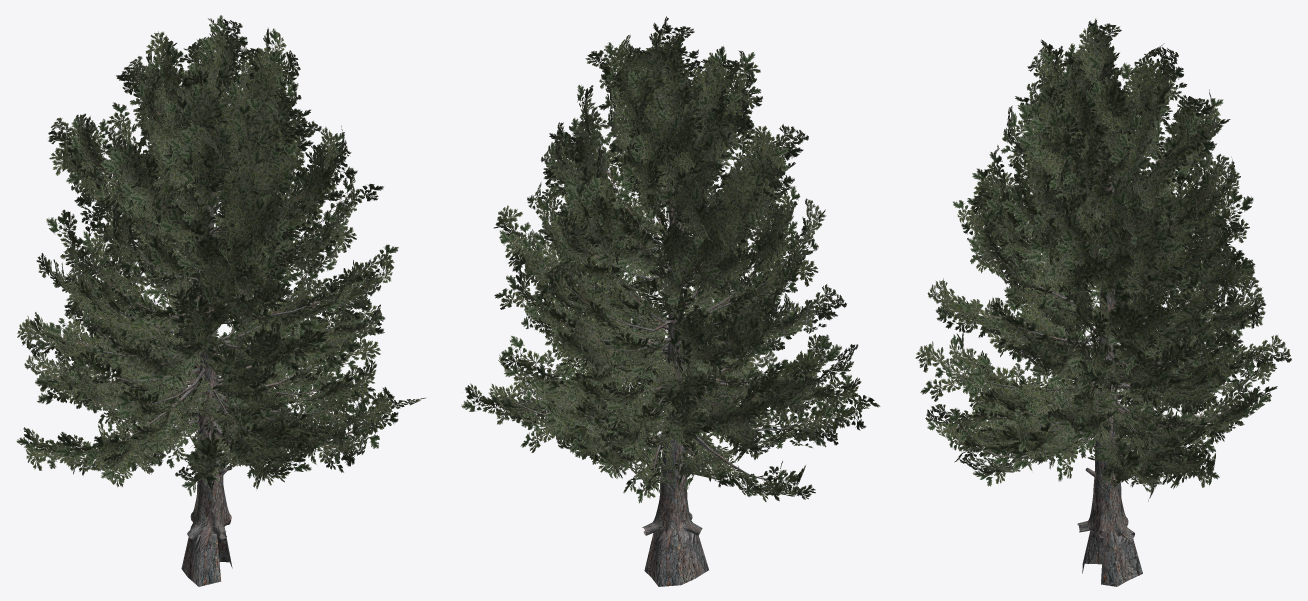
The model's file is cedar.glb.
3 renders of one model, left to right at view 1: azimuth 30°, elevation 25°; view 2: azimuth 150°, elevation 25°; view 3: azimuth 270°, elevation 25°, orthographic.
Parts seen in each view (by area): view 1: Cedar_LOD0_M_Bark.009_0; view 2: Cedar_LOD0_M_Bark.009_0; view 3: Cedar_LOD0_M_Bark.009_0.
Part boxes in pixels (box(x1,y1,x2,y2)): Cedar_LOD0_M_Bark.009_0: box(16, 15, 425, 586); Cedar_LOD0_M_Bark.009_0: box(461, 16, 880, 586); Cedar_LOD0_M_Bark.009_0: box(915, 18, 1291, 586).
Size of the model in its own units: 11.03 by 16.71 by 10.46.
Materials: 2 (2 with a texture image).
